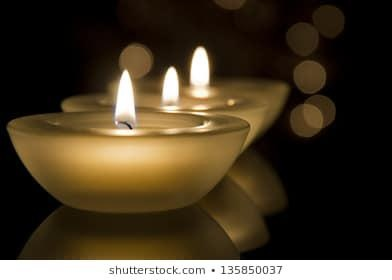fire: (110, 66, 138, 129), (186, 42, 212, 95), (160, 63, 181, 109)
